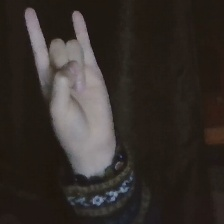U: (17, 1, 123, 164)
